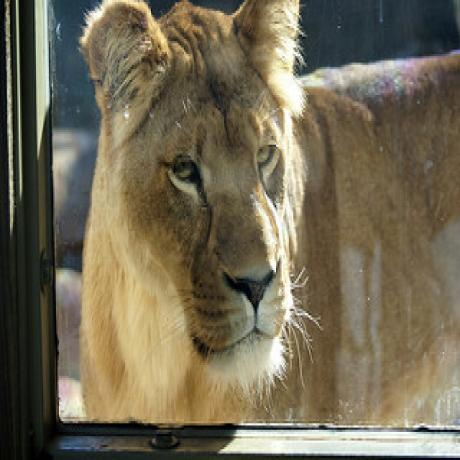Lion: (80, 0, 460, 421)
